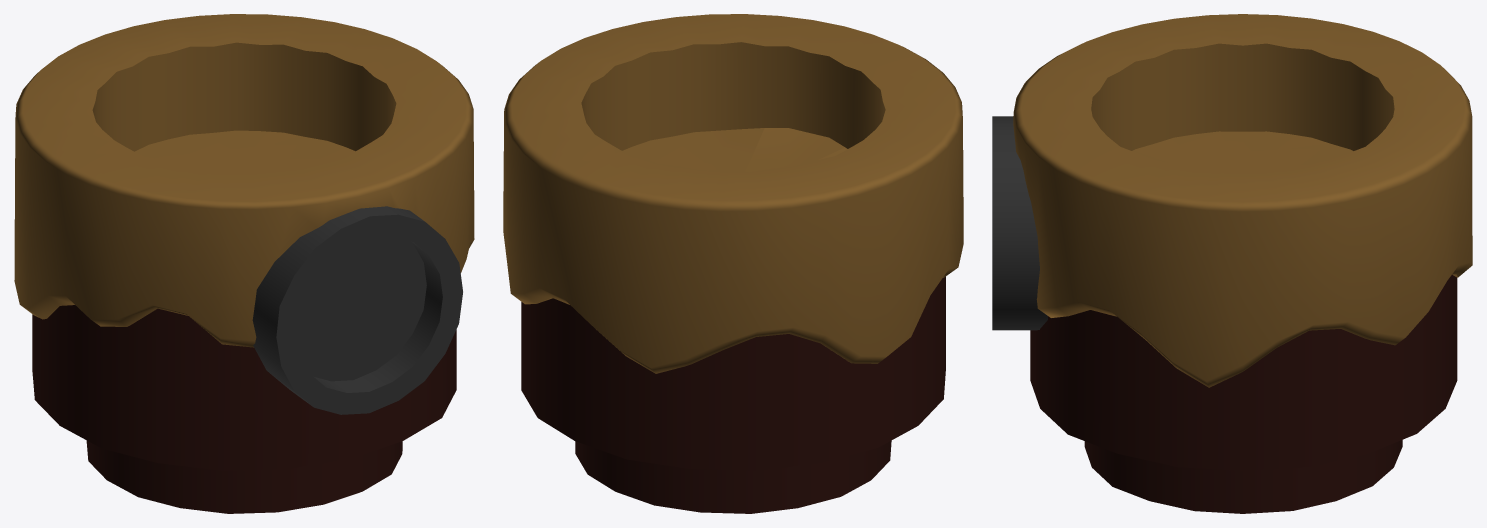
The model's file is SKM_Turret.fbx.
The picture shows the model from 3 angles, left to right: view 1: azimuth 30°, elevation 25°; view 2: azimuth 150°, elevation 25°; view 3: azimuth 270°, elevation 25°; orthographic projection.
Parts seen in each view (by area): view 1: SKM_Turret; view 2: SKM_Turret; view 3: SKM_Turret.
Boxes of the visible parts, bbox=[...] form: SKM_Turret: bbox=[14, 14, 474, 513]; SKM_Turret: bbox=[503, 14, 963, 513]; SKM_Turret: bbox=[992, 14, 1472, 513].
Size of the model in its own units: 177 by 145 by 185.
